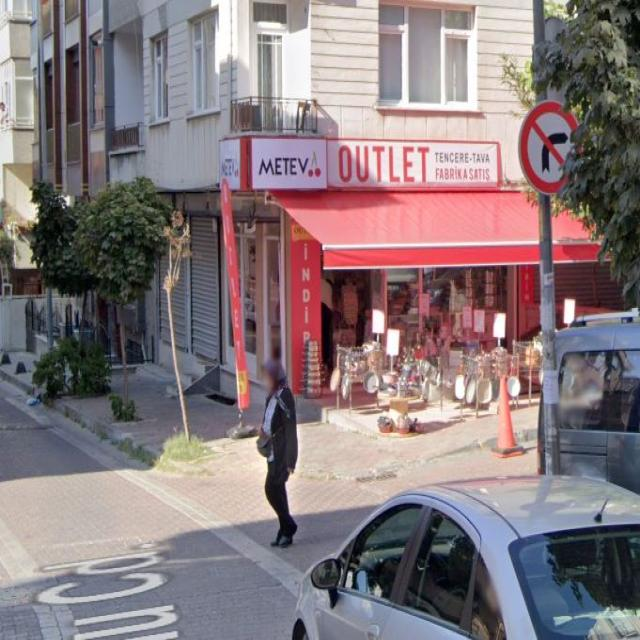sagadonulmez: (516, 100, 584, 194)
